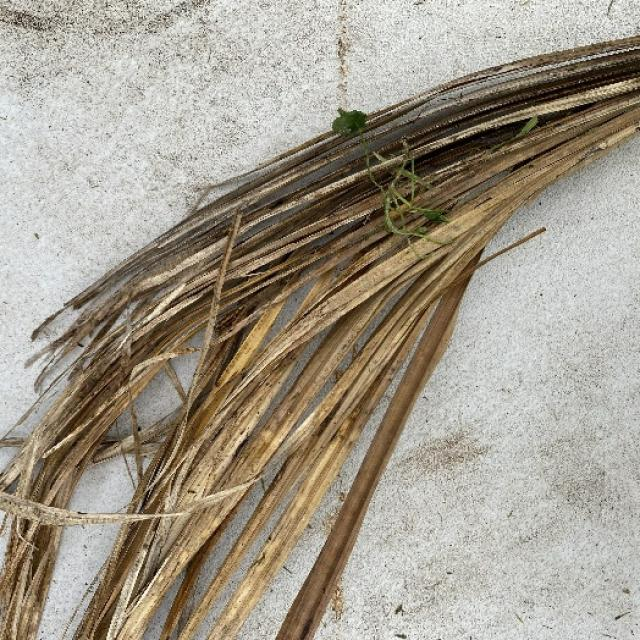organik: (0, 38, 640, 606)
